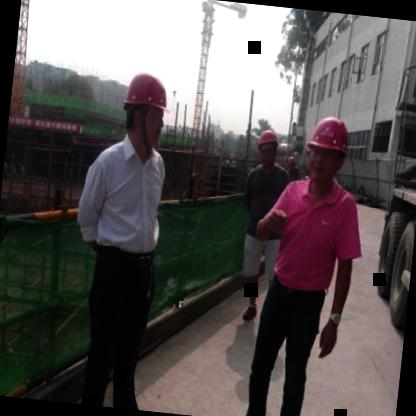helmet: (114, 62, 176, 158), (299, 107, 356, 191), (251, 122, 283, 171)
